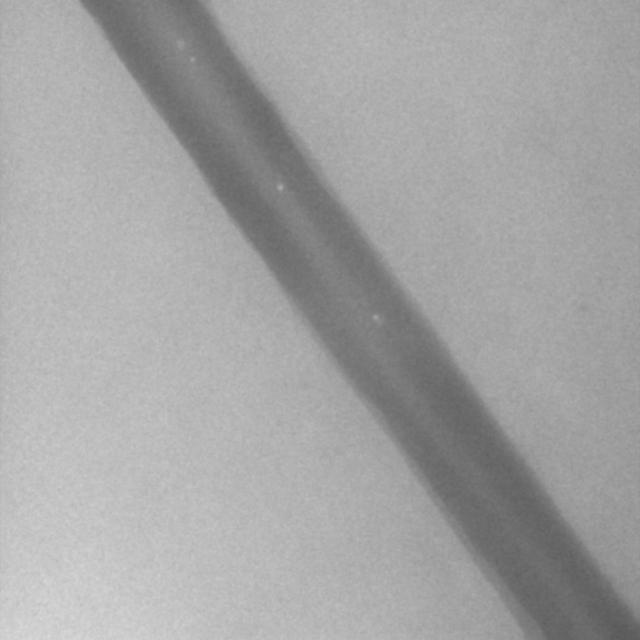air-hole: (176, 38, 185, 49), (370, 316, 380, 322), (278, 184, 285, 190), (191, 59, 195, 62)
